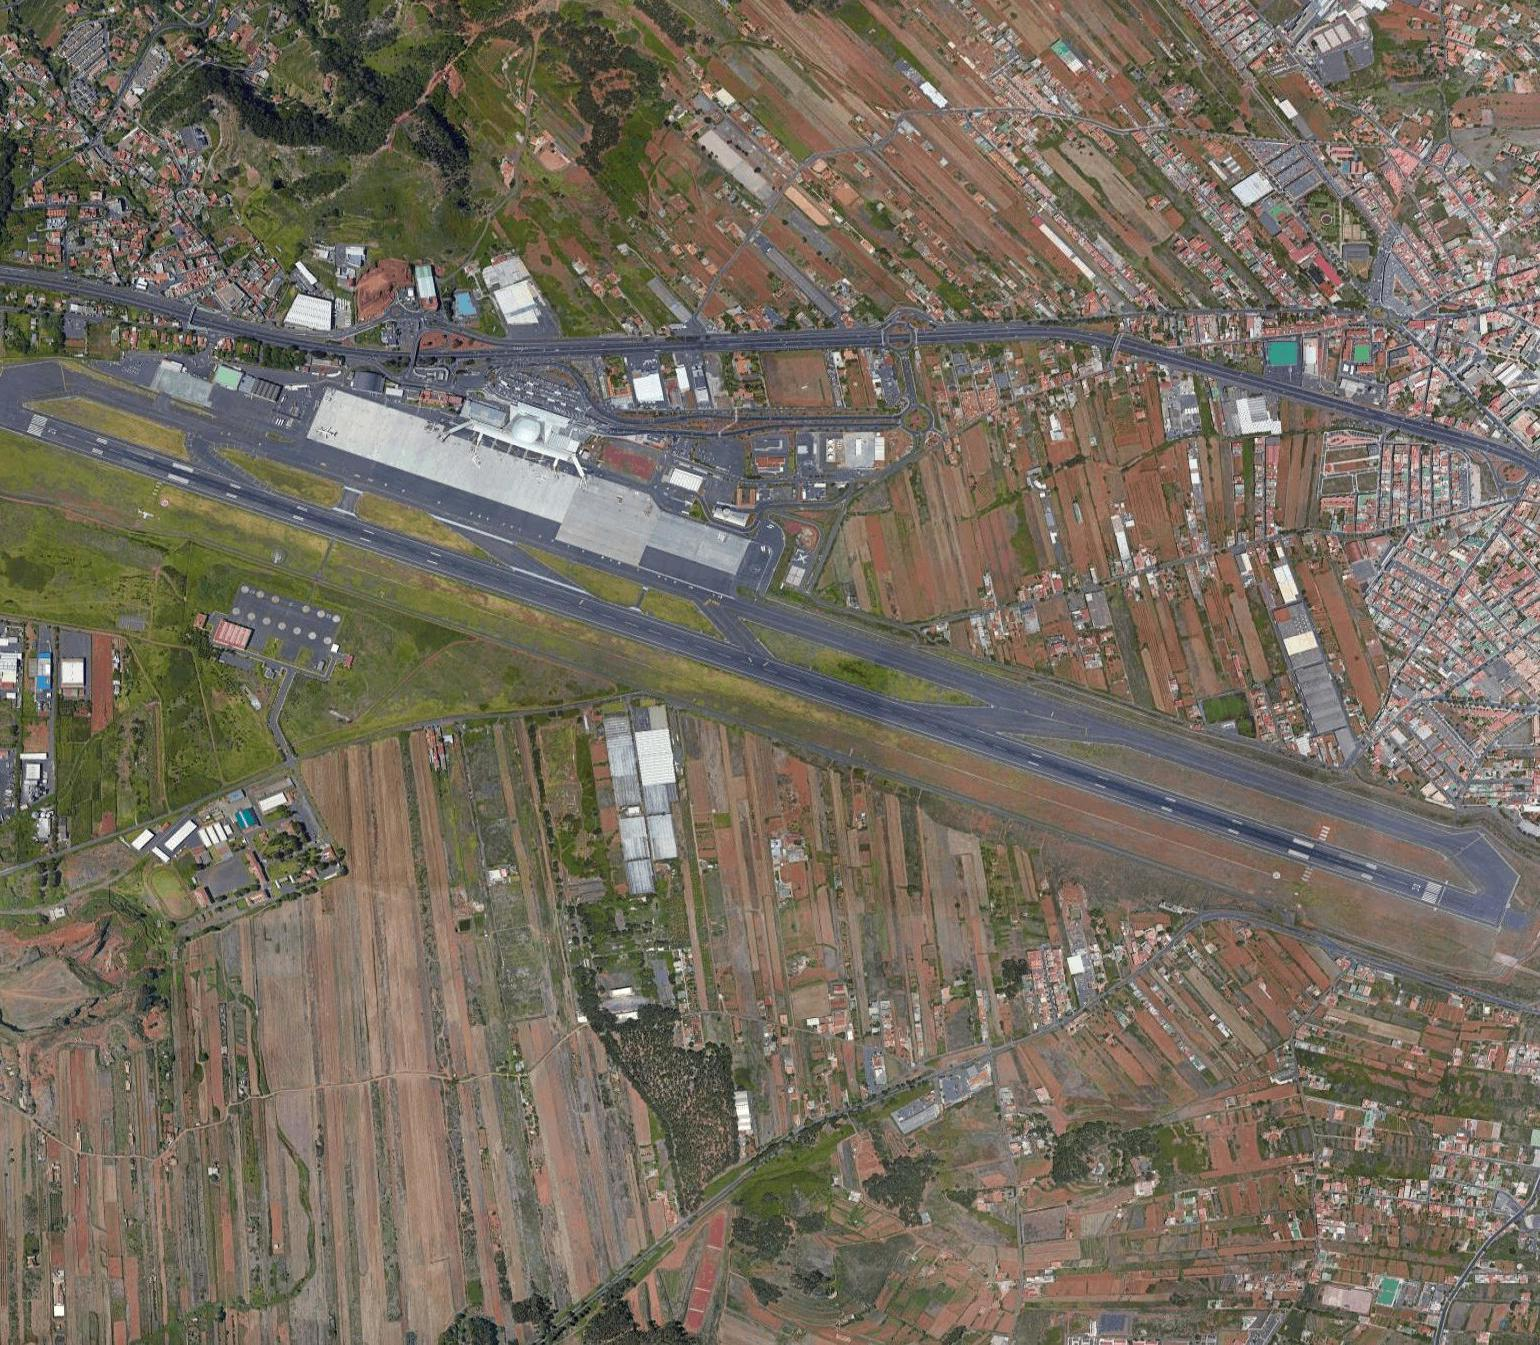airport: (1, 356, 1533, 944)
motorway: (1121, 338, 1540, 479), (1, 263, 334, 354), (330, 329, 850, 361), (849, 320, 1116, 350)
